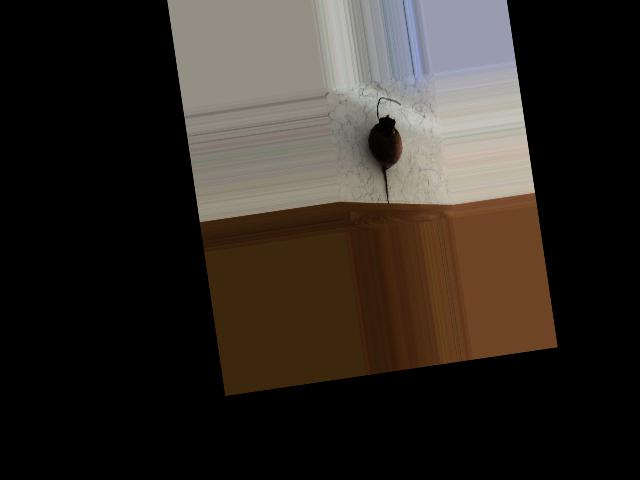beet: (362, 95, 414, 207)
